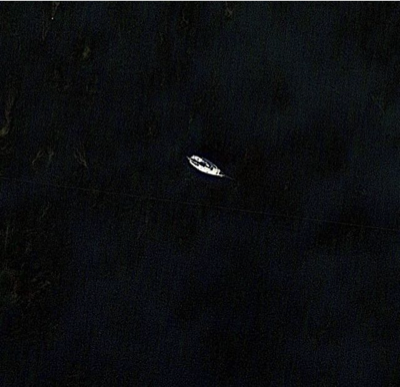boat: (185, 154, 225, 179)
